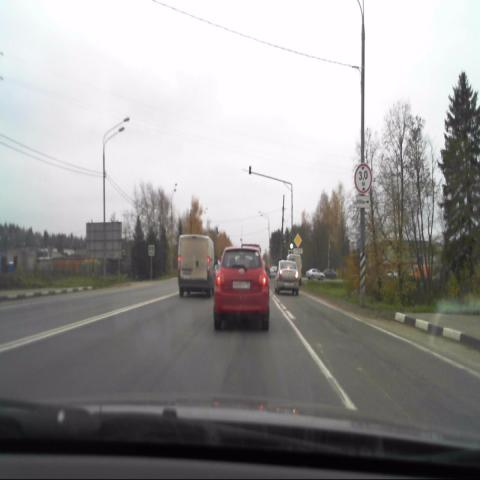2_1: (294, 233, 301, 248)
3_13: (354, 162, 372, 193)
